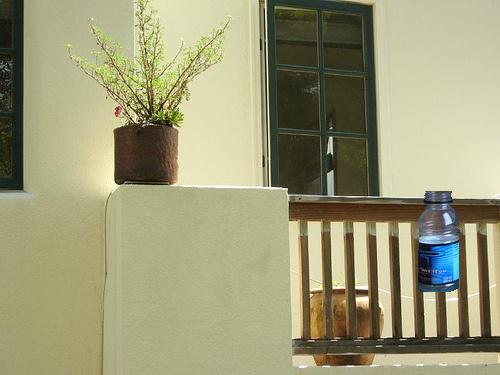tampered: (419, 192, 460, 292)
